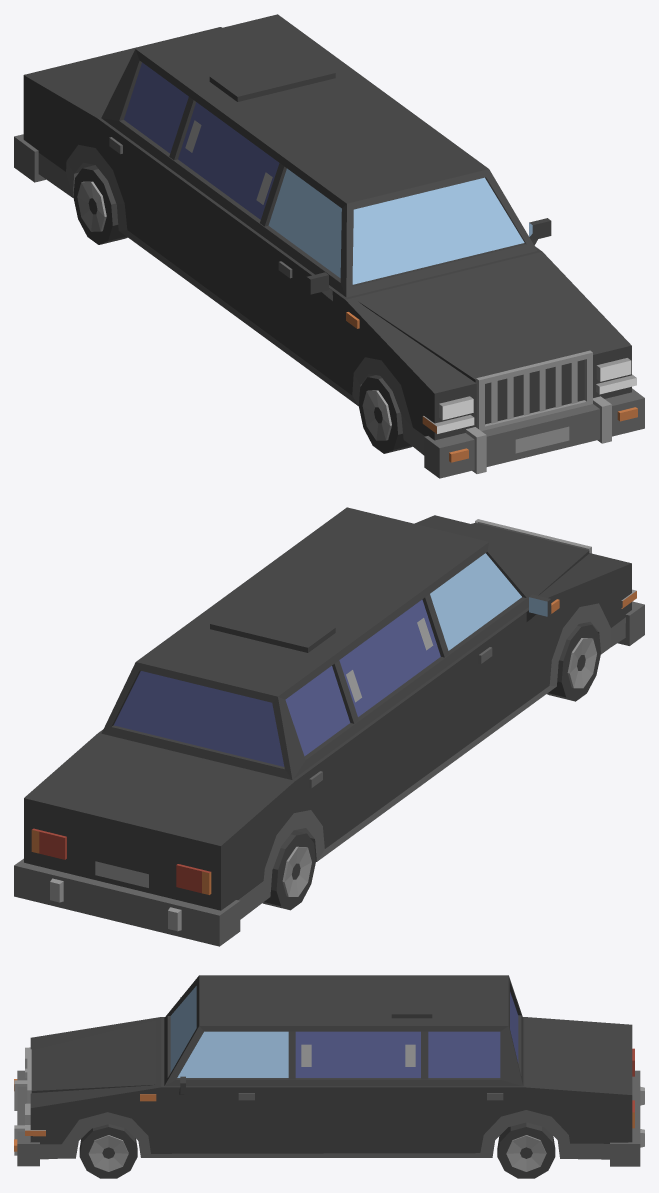
Rendered from transport_cool_006.fbx.
The picture shows the model from 3 angles, top to bottom: view 1: azimuth 30°, elevation 25°; view 2: azimuth 150°, elevation 25°; view 3: azimuth 270°, elevation 25°; orthographic projection. The views are drawn at different scales.
Parts seen in each view (by area): view 1: transport_cool_006; view 2: transport_cool_006; view 3: transport_cool_006.
Part boxes in pixels (left/top/right/bottom): transport_cool_006: left=14, top=14, right=644, bottom=478; transport_cool_006: left=14, top=507, right=644, bottom=946; transport_cool_006: left=14, top=975, right=644, bottom=1178.
Bounding box in the file's own units: 148 × 117 × 458.
